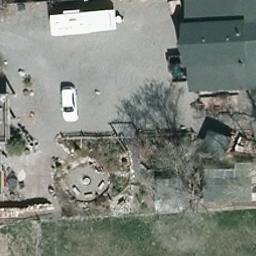camping car: (51, 12, 117, 35)
car: (60, 88, 80, 123)
